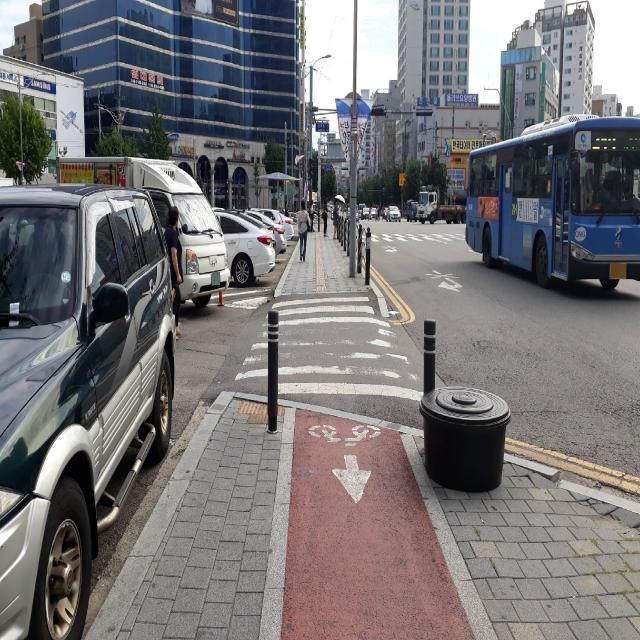횡단보도: (234, 295, 424, 402), (360, 228, 469, 243)
